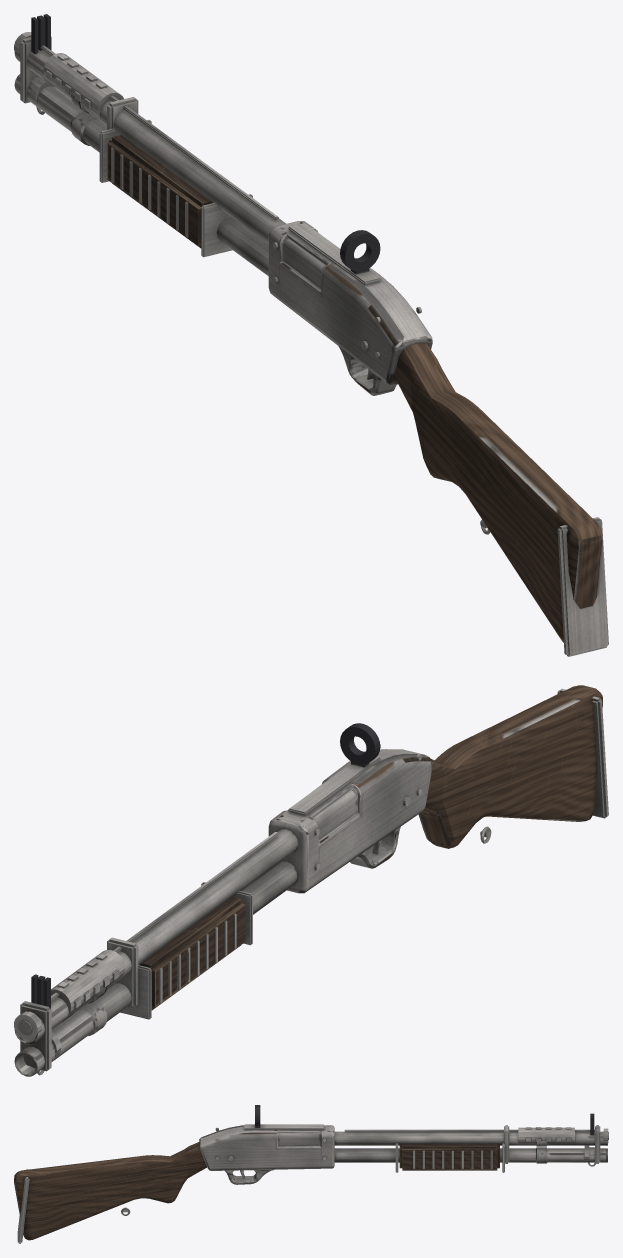
The model's file is pump_shotgun.glb.
The picture shows the model from 3 angles, top to bottom: view 1: azimuth 30°, elevation 25°; view 2: azimuth 150°, elevation 25°; view 3: azimuth 270°, elevation 25°; orthographic projection. The views are drawn at different scales.
Parts seen in each view (by area): view 1: shotgun, detail, rear_ring; view 2: shotgun, detail, rear_ring; view 3: shotgun, detail.
Boxes of the visible parts, <box> form: shotgun: <box>14,49,602,642</box>; detail: <box>14,32,608,656</box>; rear_ring: <box>340,230,380,271</box>; shotgun: <box>14,685,602,1076</box>; detail: <box>14,688,608,1075</box>; rear_ring: <box>340,723,380,764</box>; shotgun: <box>14,1125,607,1240</box>; detail: <box>17,1124,608,1243</box>.
Size of the model in its own units: 0.046 by 0.2192 by 0.8889.
2 materials, 1 textured.
